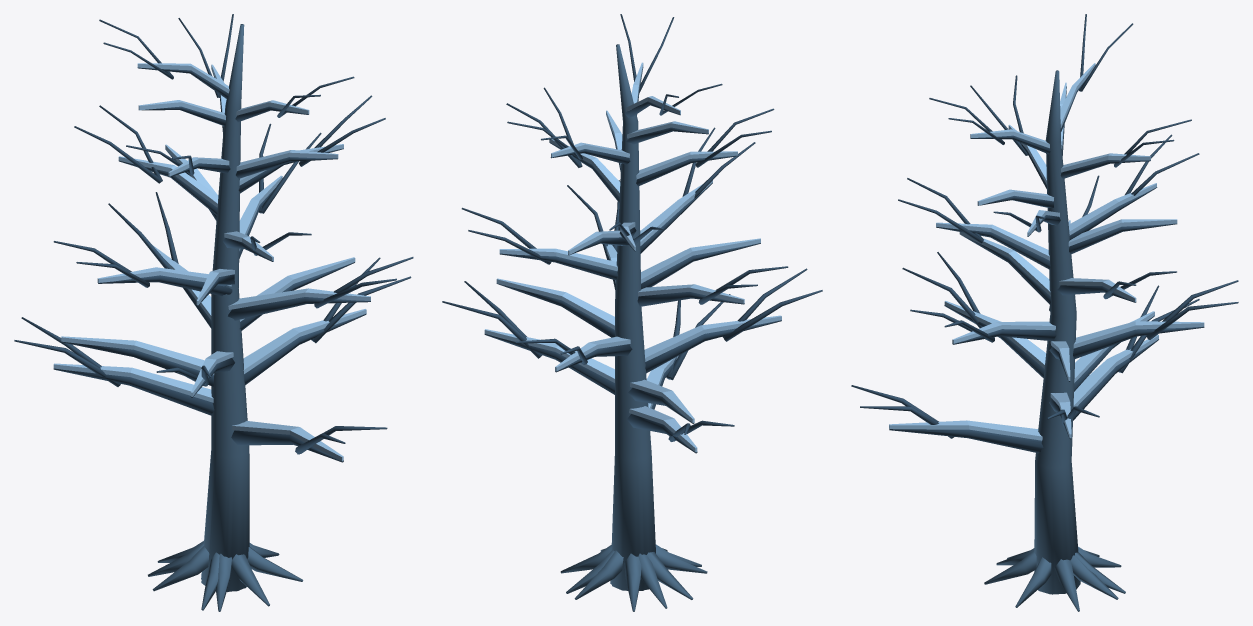
The model's file is tree_larch.glb.
The picture shows the model from 3 angles, left to right: view 1: azimuth 30°, elevation 25°; view 2: azimuth 150°, elevation 25°; view 3: azimuth 270°, elevation 25°; orthographic projection. The views are drawn at different scales.
Parts seen in each view (by area): view 1: Near, Far; view 2: Near, Far; view 3: Near, Far.
Boxes of the visible parts, x1=… form: Near: x1=14, y1=14, x2=413, y2=610; Far: x1=61, y1=24, x2=355, y2=611; Near: x1=442, y1=14, x2=822, y2=611; Far: x1=496, y1=44, x2=760, y2=608; Near: x1=851, y1=14, x2=1238, y2=611; Far: x1=889, y1=70, x2=1177, y2=607.
Size of the model in its own units: 3.63 by 5.68 by 3.82.
